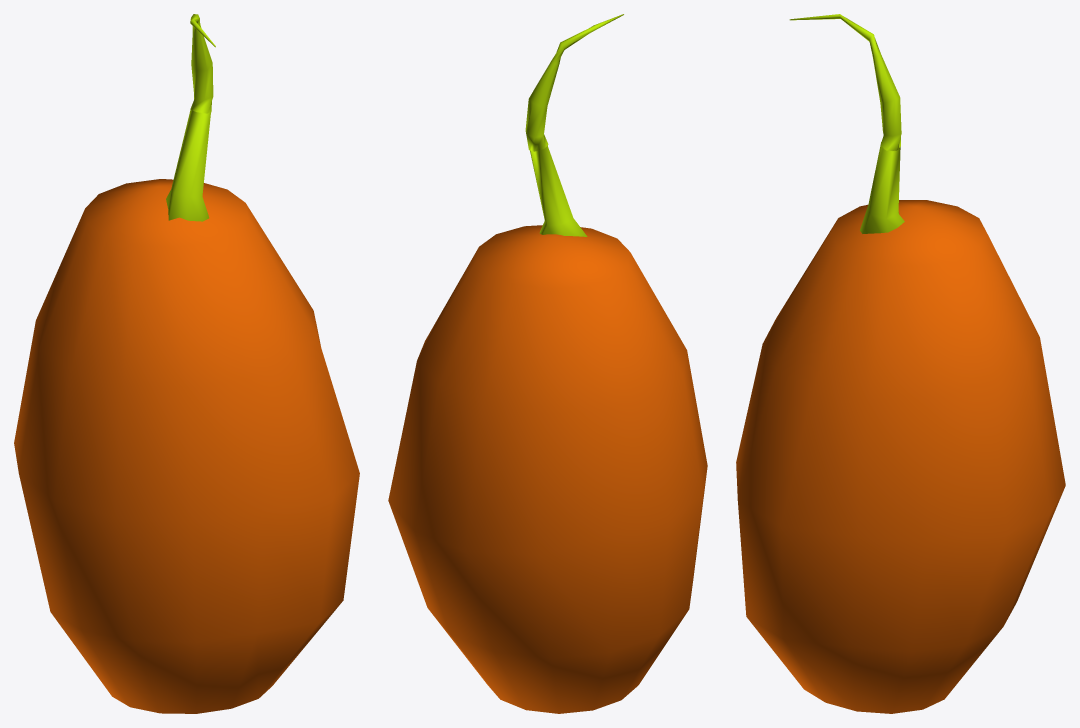
The model's file is Lima Bean Seed Germinating.fbx.
The picture shows the model from 3 angles, left to right: view 1: azimuth 30°, elevation 25°; view 2: azimuth 150°, elevation 25°; view 3: azimuth 270°, elevation 25°; orthographic projection. The views are drawn at different scales.
Parts seen in each view (by area): view 1: Sphere, Cylinder; view 2: Sphere, Cylinder; view 3: Sphere, Cylinder.
Part boxes in pixels (bbox=[...]): Sphere: bbox=[14, 179, 359, 713]; Cylinder: bbox=[166, 14, 215, 221]; Sphere: bbox=[388, 225, 707, 713]; Cylinder: bbox=[525, 14, 623, 236]; Sphere: bbox=[736, 200, 1065, 713]; Cylinder: bbox=[789, 14, 904, 233].
Bounding box in the file's own units: 119 × 285 × 125.
